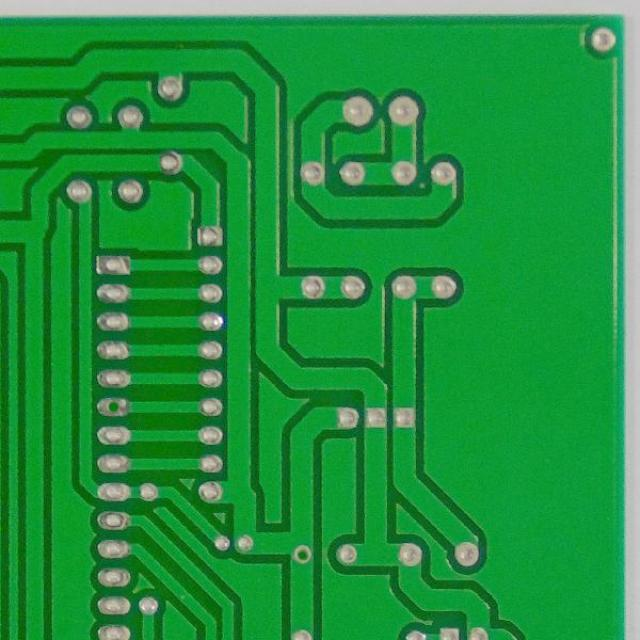Missing_Hole: (95, 394, 131, 418), (290, 544, 314, 565)
